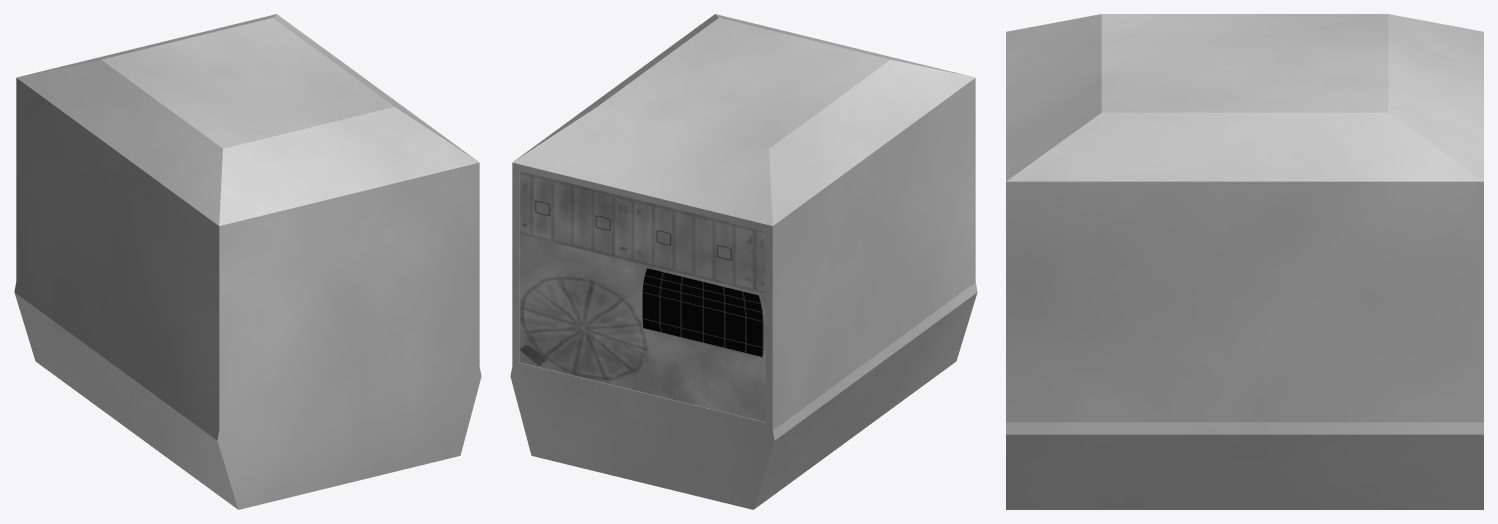
The model's file is BoxTest.FBX.
The picture shows the model from 3 angles, left to right: view 1: azimuth 30°, elevation 25°; view 2: azimuth 150°, elevation 25°; view 3: azimuth 270°, elevation 25°; orthographic projection. The views are drawn at different scales.
Parts seen in each view (by area): view 1: StorageBox001; view 2: StorageBox001, StorageBoxLid001; view 3: StorageBox001.
Part boxes in pixels (left/top/right/bottom): StorageBox001: left=14, top=14, right=481, bottom=509; StorageBox001: left=510, top=14, right=977, bottom=509; StorageBoxLid001: left=519, top=170, right=765, bottom=422; StorageBox001: left=1006, top=14, right=1483, bottom=509.
Size of what is drawn, in the model's own units: 0.529 by 0.7041 by 0.6225.
1 material, 1 textured.
